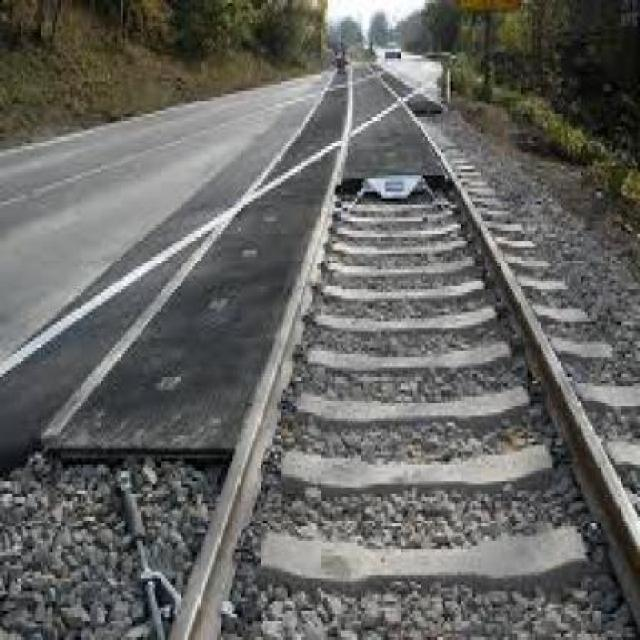rail: (152, 88, 640, 640)
